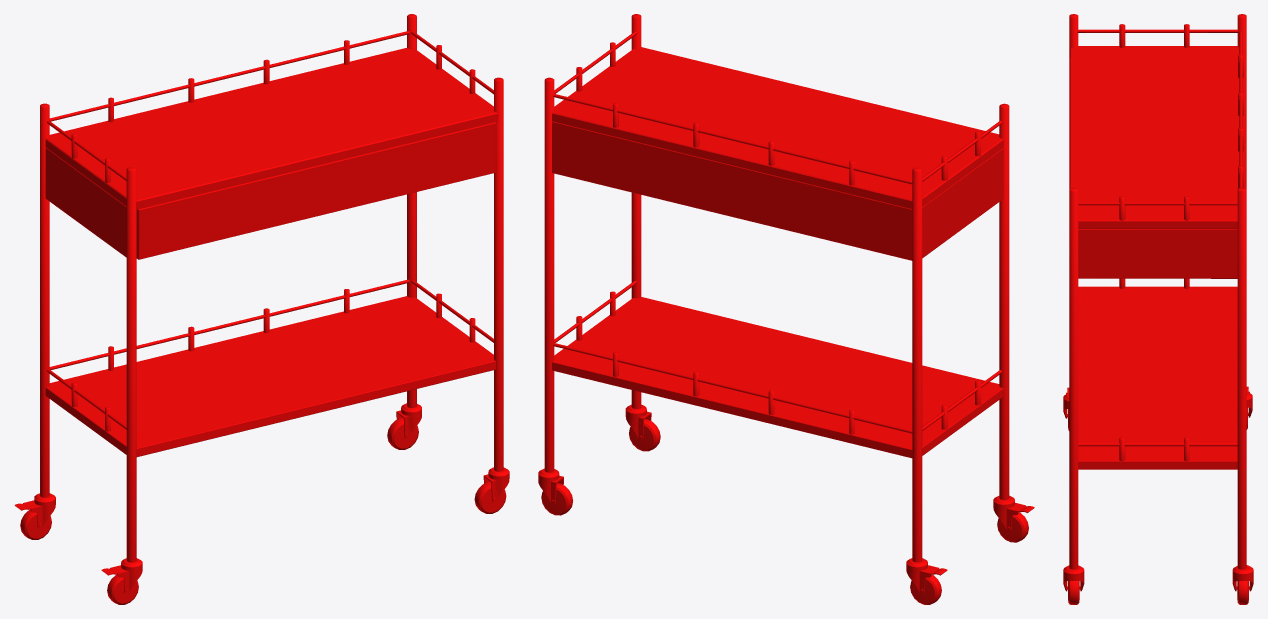
Rendered from medical_cart_1.FBX.
3 views of the same model, side by side, from view 1: azimuth 30°, elevation 25°; view 2: azimuth 150°, elevation 25°; view 3: azimuth 270°, elevation 25° (orthographic). The views are drawn at different scales.
Visible parts, largest first — view 1: mc1_cart, mc1_drawer, mc1_wheel_1, mc1_wheel_2, mc1_wheel_4, mc1_wheel_3; view 2: mc1_cart, mc1_wheel_2, mc1_wheel_1, mc1_wheel_4, mc1_wheel_3; view 3: mc1_cart, mc1_wheel_4, mc1_wheel_3.
Boxes of the visible parts, left/top/right/bottom form: mc1_cart: left=40, top=14, right=503, bottom=562; mc1_drawer: left=136, top=122, right=495, bottom=259; mc1_wheel_1: left=101, top=558, right=142, bottom=604; mc1_wheel_2: left=14, top=493, right=55, bottom=539; mc1_wheel_4: left=474, top=467, right=509, bottom=513; mc1_wheel_3: left=387, top=403, right=421, bottom=449; mc1_cart: left=544, top=14, right=1009, bottom=562; mc1_wheel_2: left=906, top=558, right=947, bottom=604; mc1_wheel_1: left=993, top=495, right=1034, bottom=542; mc1_wheel_4: left=625, top=404, right=660, bottom=451; mc1_wheel_3: left=538, top=468, right=572, bottom=515; mc1_cart: left=1069, top=14, right=1246, bottom=569; mc1_wheel_4: left=1063, top=565, right=1084, bottom=604; mc1_wheel_3: left=1232, top=565, right=1253, bottom=604.
Size of the model in its own units: 41.81 by 17.65 by 42.88.
